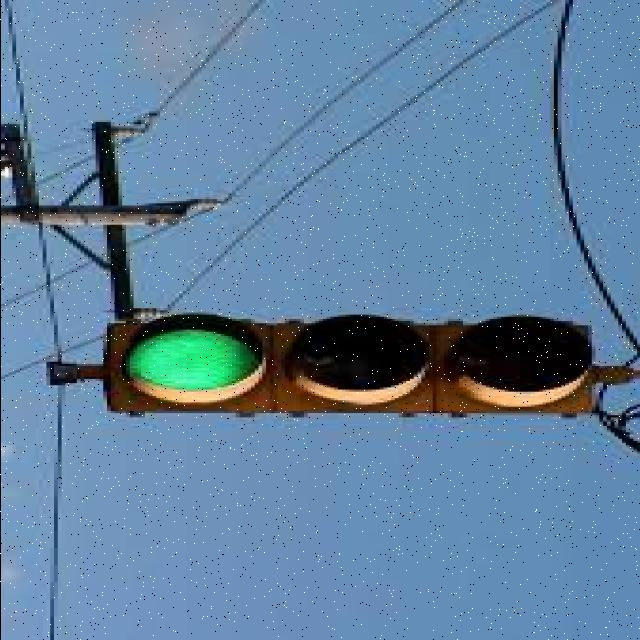green: (111, 322, 584, 412)
